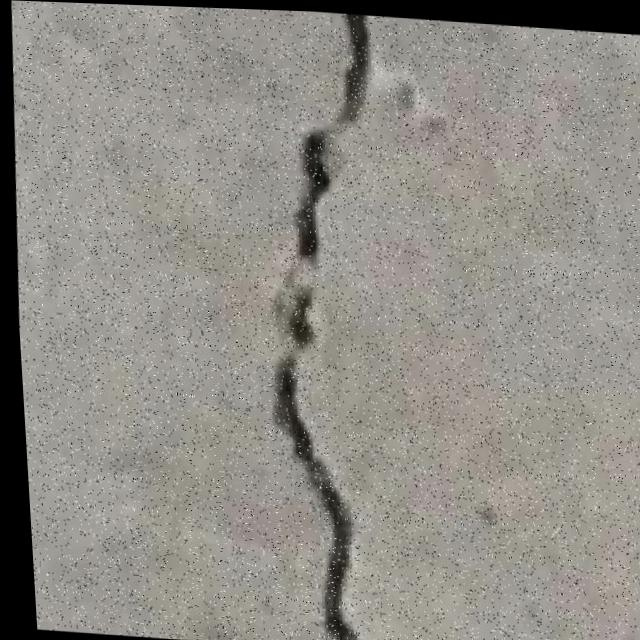Crack: (234, 7, 390, 640)
